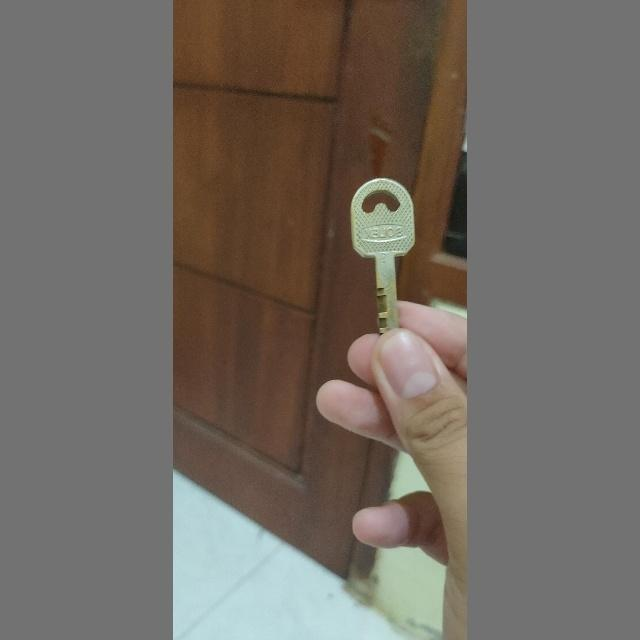Keys: (343, 168, 419, 344)
